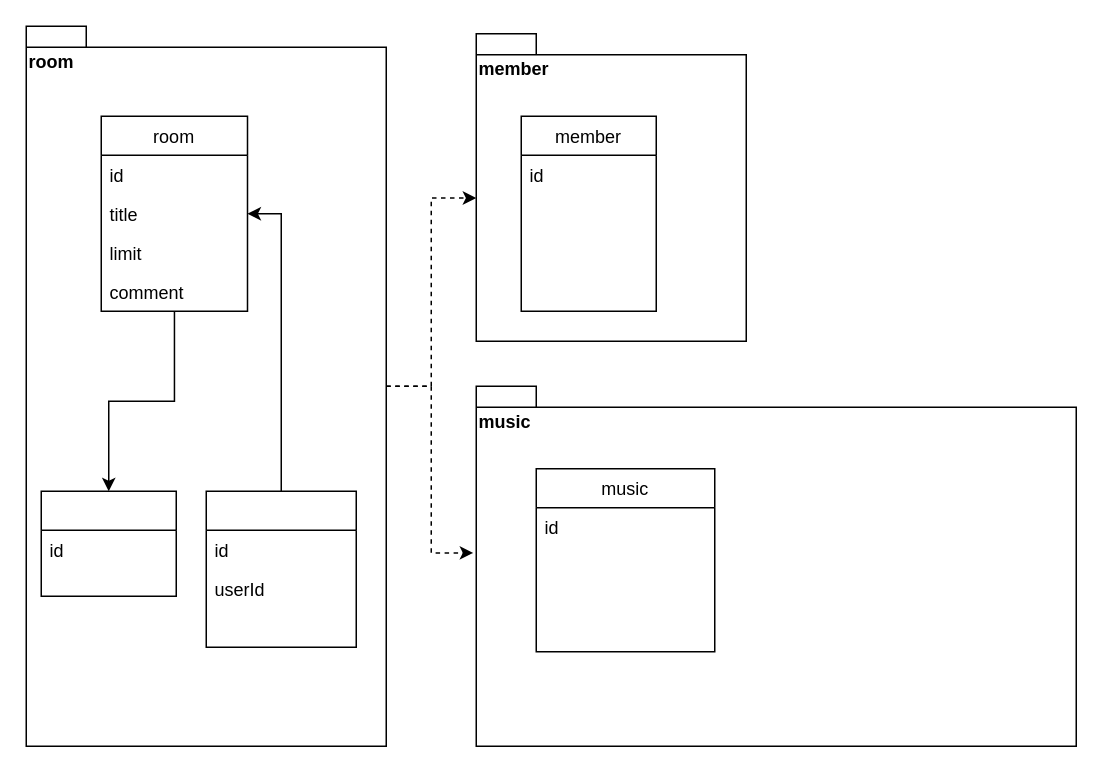
This 1103x773 diagram has some shape labels left out. The shapes that lost their labels are listed below. From the top down, each one's box as (x1, y1, x2, y2) in pixels, then its label:
(40, 490, 176, 596): playlist
(205, 490, 356, 647): chat
